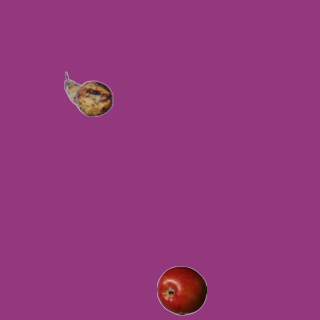Apple Braeburn: (156, 265, 206, 315)
Pear Abate: (63, 69, 113, 119)
